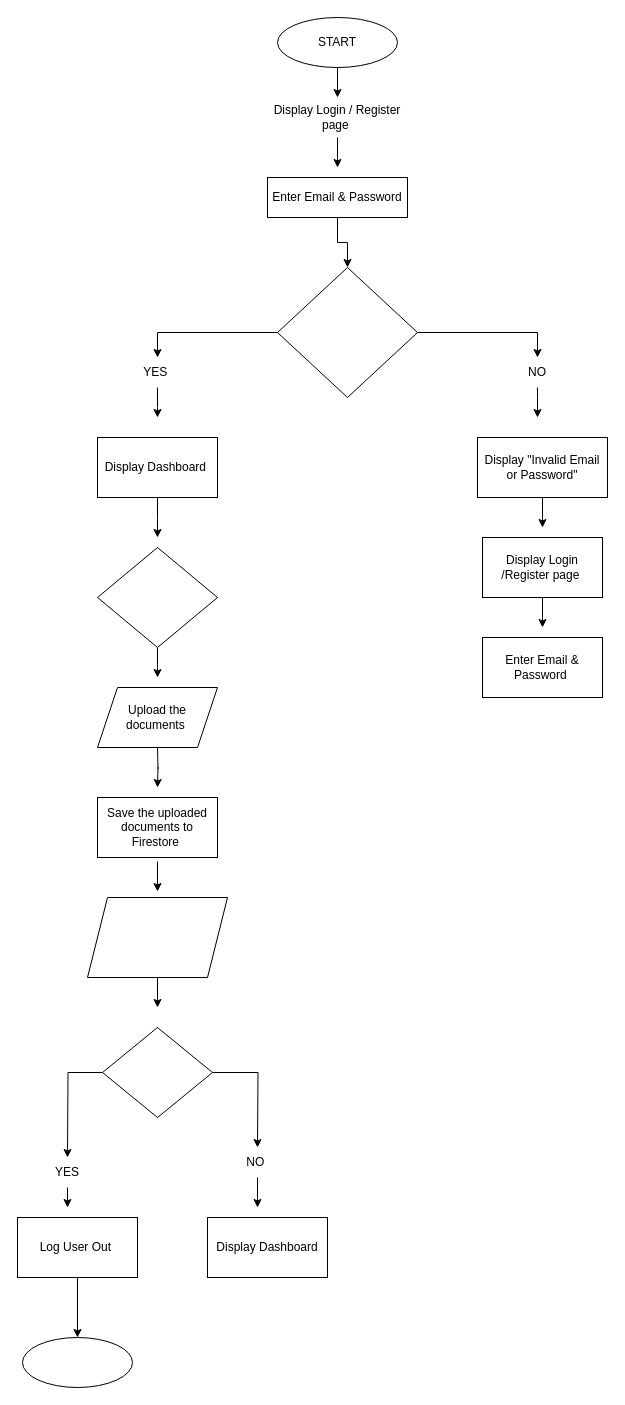
Some shapes in this 625 by 1405 pixel diagram are drawn without their labels. Here are the shapes that lost their labels. From the top down, the centre of each, then its label:
the point at 347,332: Login successsfully?
the point at 157,597: Click "Upload Documents"
the point at 157,937: Display message "Documents uploaded successfully"
the point at 157,1072: Click Logout?
the point at 77,1362: END
